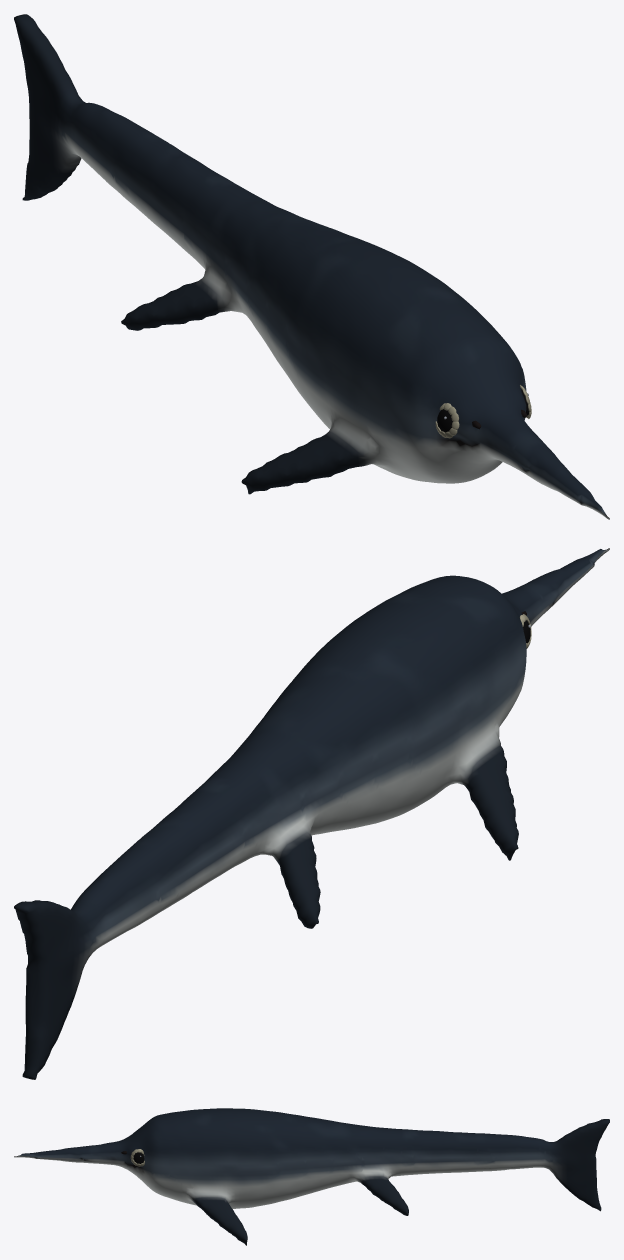
The model's file is ShonisaurusSikanniensis.fbx.
The picture shows the model from 3 angles, top to bottom: view 1: azimuth 30°, elevation 25°; view 2: azimuth 150°, elevation 25°; view 3: azimuth 270°, elevation 25°; orthographic projection. The views are drawn at different scales.
Parts seen in each view (by area): view 1: ShonisaurusSikanniensis; view 2: ShonisaurusSikanniensis; view 3: ShonisaurusSikanniensis.
Boxes of the visible parts, <box> form: ShonisaurusSikanniensis: <box>14,14,609,519</box>; ShonisaurusSikanniensis: <box>14,548,609,1079</box>; ShonisaurusSikanniensis: <box>14,1108,609,1245</box>.
Bounding box in the file's own units: 0.5025 × 0.347 × 1.86.
